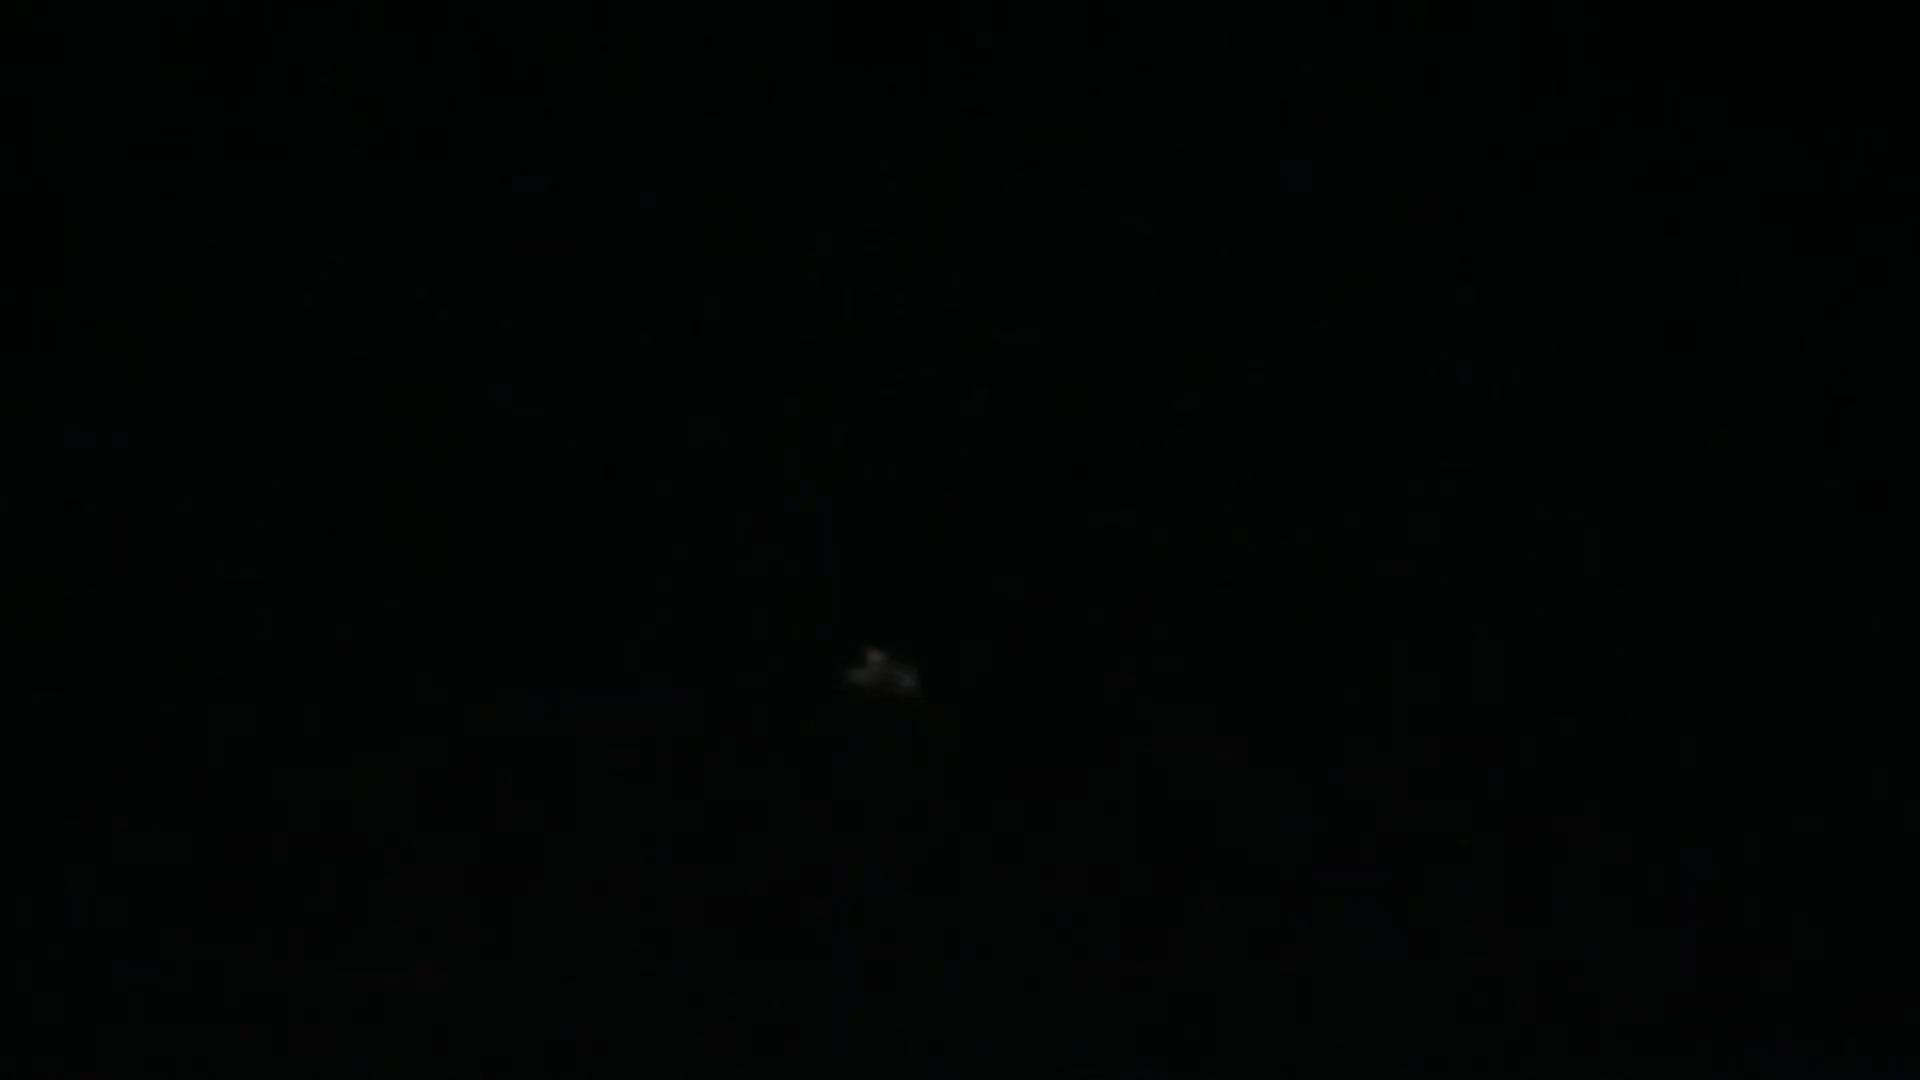Plane: (803, 620, 967, 719)
